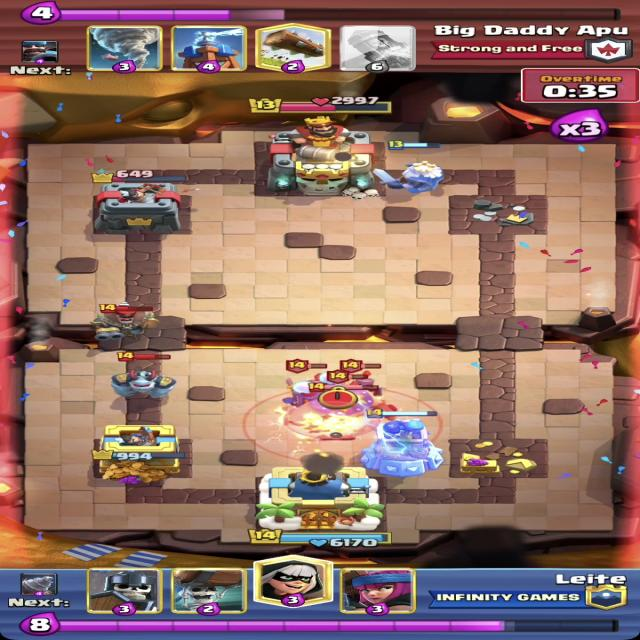Enemy-ElectroGiant: (284, 381, 393, 434)
Enemy-Guard: (285, 359, 338, 393), (338, 358, 382, 398), (319, 369, 365, 401)
Enemy-Hunter: (93, 302, 158, 338)
Player-BombTower: (361, 408, 444, 478)
Player-RoyalGhost: (374, 140, 448, 193)
Player-Tombstone: (111, 352, 177, 398)
